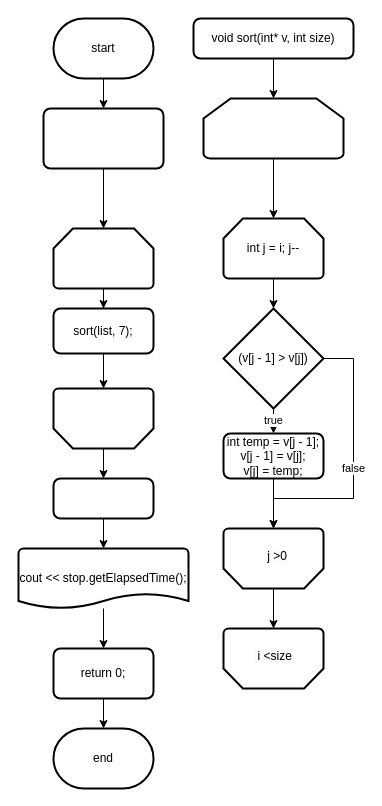
Some shapes in this 382 by 806 pixel diagram are drawn without their labels. Each missing label, with the centre of its shape:
"i < 1000000;" goes at [103,418].
"int i = 0 i++" goes at [103,258].
"int i =1; i++" goes at [273,128].
"stop.stop();" goes at [103,498].
"StopWatch stop; int list[7] = { 6,4,1,7,3,9,8 }; stop.setStartTime();" goes at [103,138].
